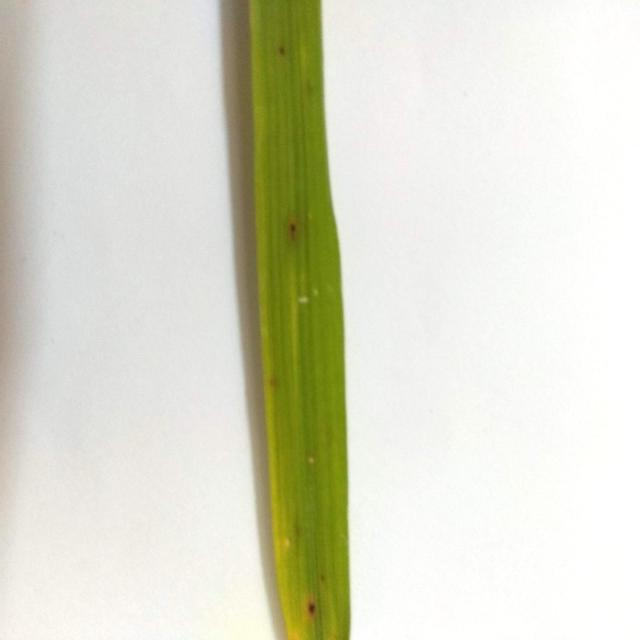Brown spot: (302, 587, 324, 624), (284, 210, 306, 244), (262, 365, 283, 399), (278, 37, 292, 64)
